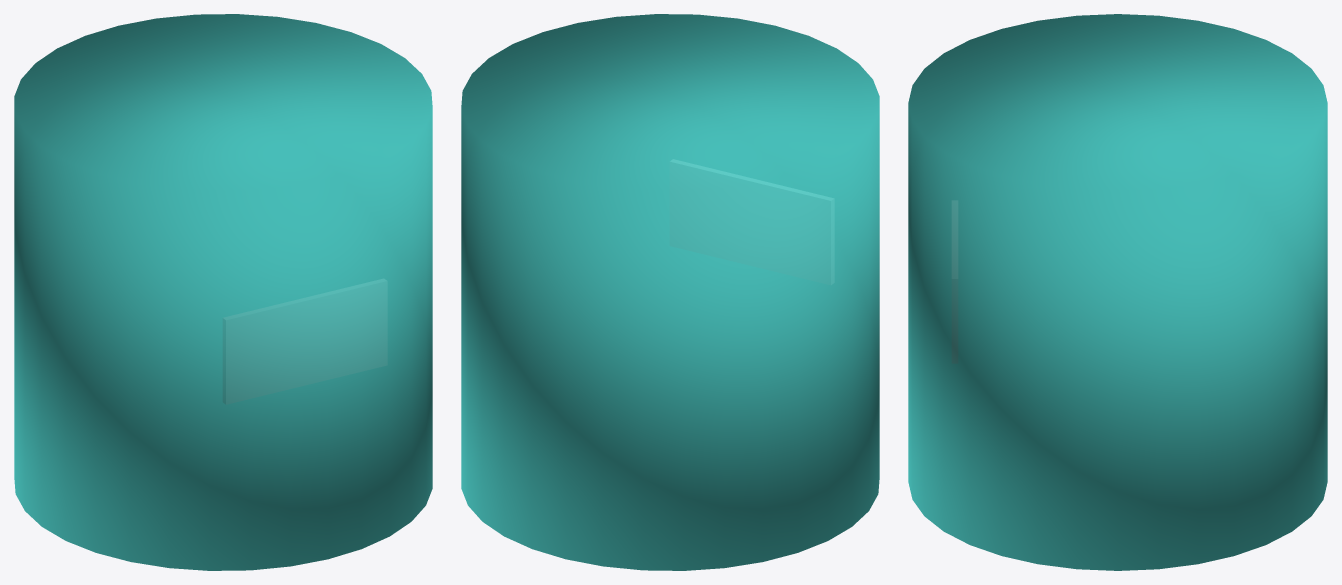
3 views of the same model, side by side, from view 1: azimuth 30°, elevation 25°; view 2: azimuth 150°, elevation 25°; view 3: azimuth 270°, elevation 25° (orthographic).
Parts seen in each view (by area): view 1: bottle_liquid_cap_label_nozzle_reflection_highlight_swatch_r; view 2: bottle_liquid_cap_label_nozzle_reflection_highlight_swatch_r; view 3: bottle_liquid_cap_label_nozzle_reflection_highlight_swatch_r.
Part boxes in pixels (x1,y1,x2,y2): bottle_liquid_cap_label_nozzle_reflection_highlight_swatch_r: (14,14,432,570); bottle_liquid_cap_label_nozzle_reflection_highlight_swatch_r: (461,14,879,570); bottle_liquid_cap_label_nozzle_reflection_highlight_swatch_r: (908,14,1327,570).
Size of the model in its own units: 1.8 by 1.8 by 1.8.
